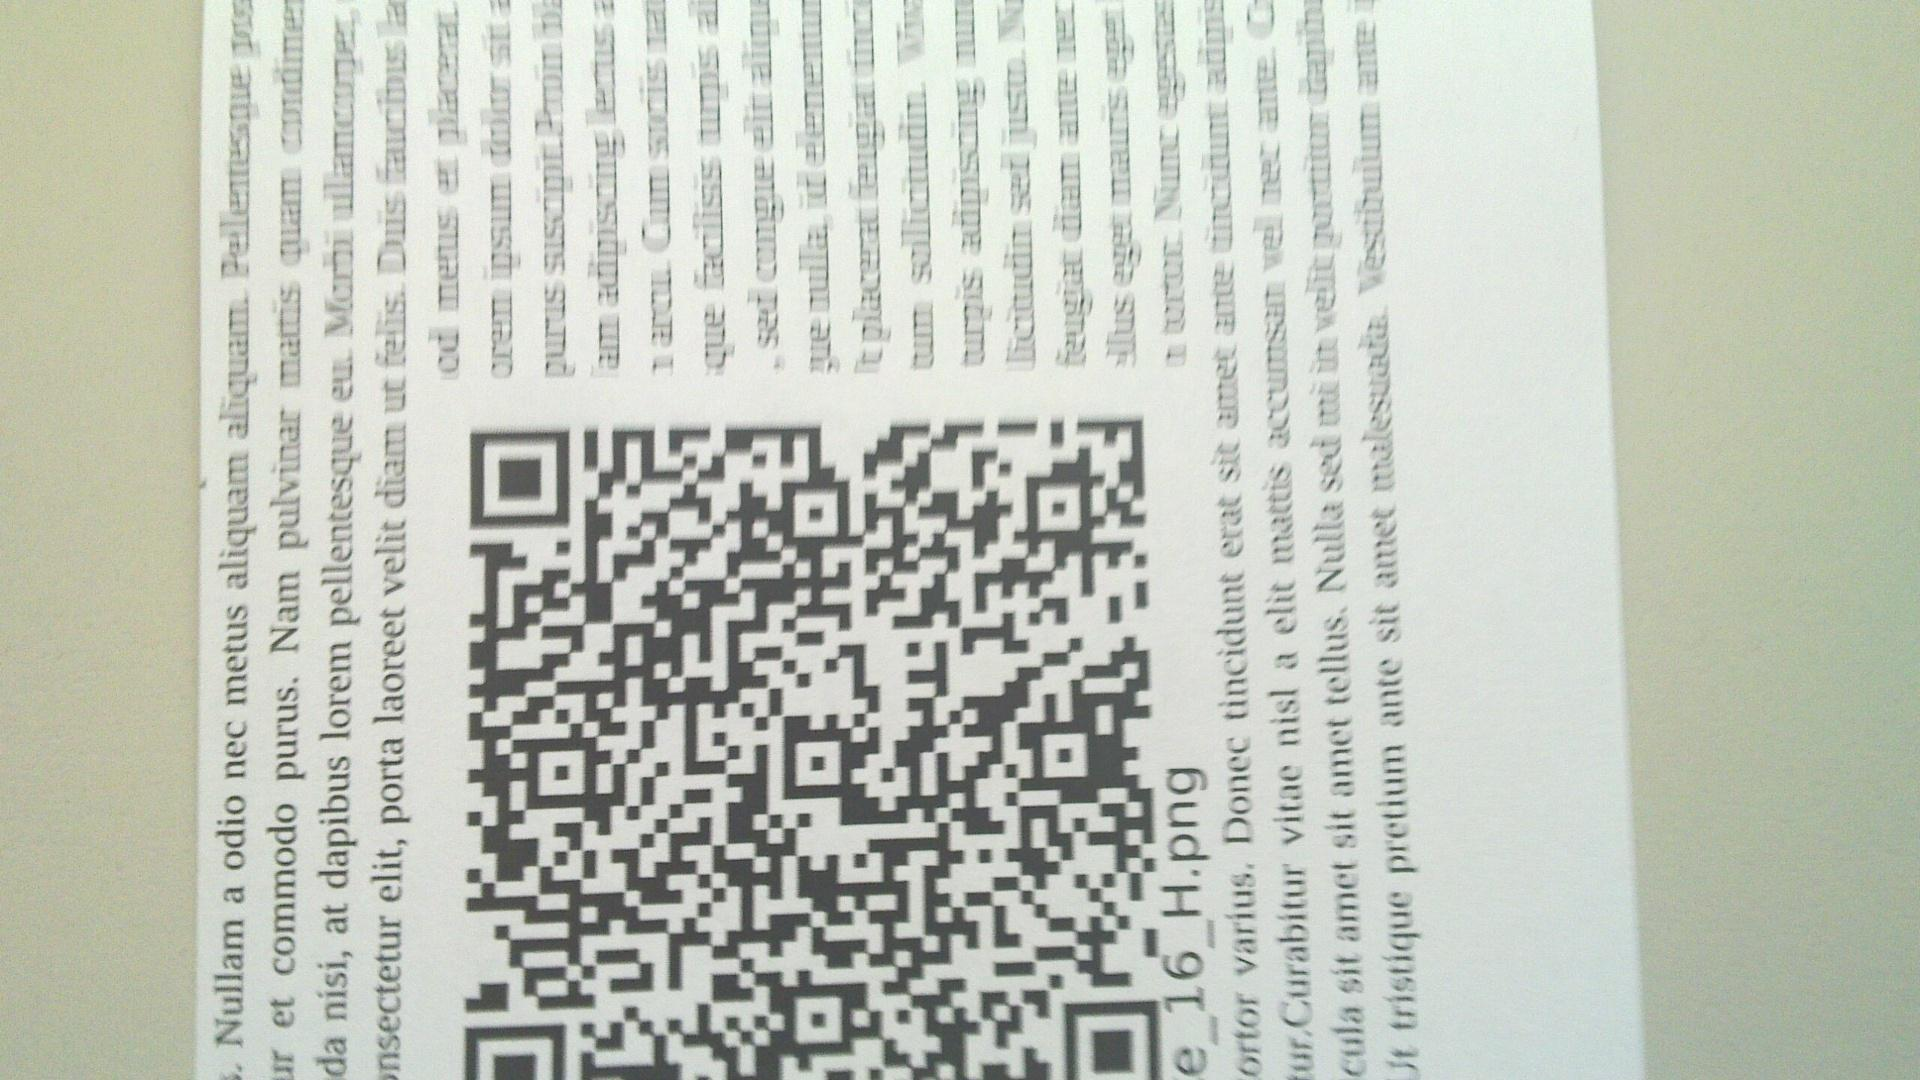Finder pattern: (456, 421, 578, 533), (1058, 992, 1167, 1079), (455, 1021, 574, 1079)
